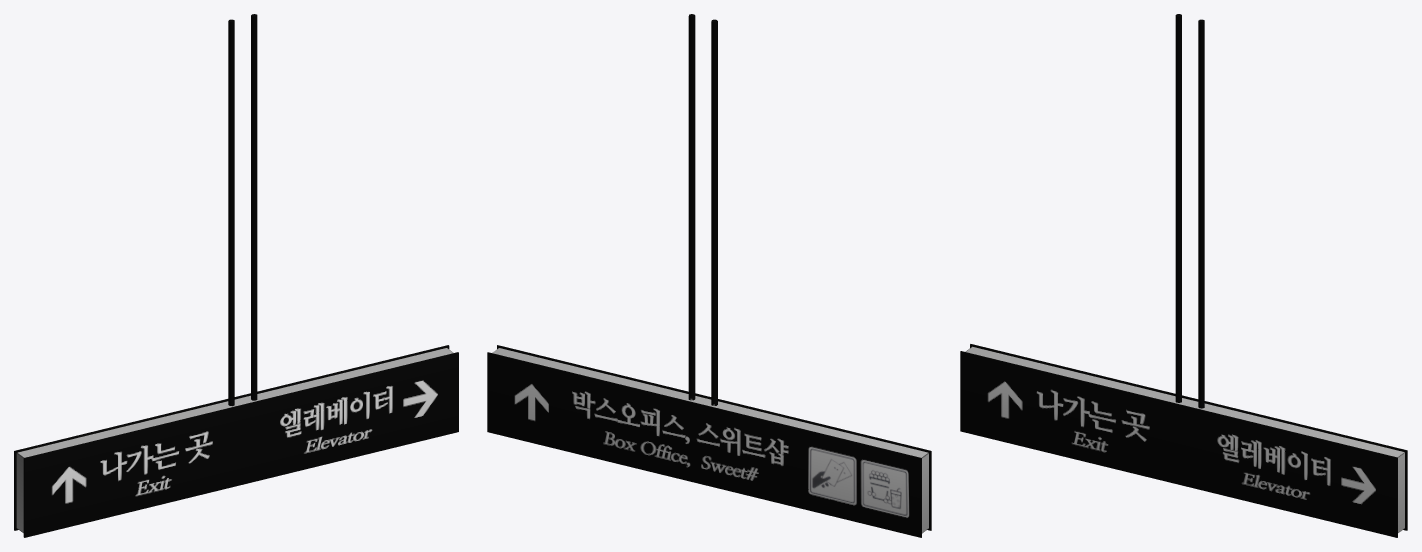
File: LC_3019_GuideSign_A_LOD3.FBX
3 renders of one model, left to right at view 1: azimuth 30°, elevation 25°; view 2: azimuth 150°, elevation 25°; view 3: azimuth 330°, elevation 25°, orthographic.
Visible parts, largest first — view 1: LC_3019_GuideSign_A_LOD3; view 2: LC_3019_GuideSign_A_LOD3; view 3: LC_3019_GuideSign_A_LOD3.
Part boxes in pixels (<box>): LC_3019_GuideSign_A_LOD3: <box>14,14,458,537</box>; LC_3019_GuideSign_A_LOD3: <box>487,14,931,537</box>; LC_3019_GuideSign_A_LOD3: <box>960,14,1407,537</box>.
Bounding box in the file's own units: 120 × 122 × 4.98.
1 material, 1 textured.
